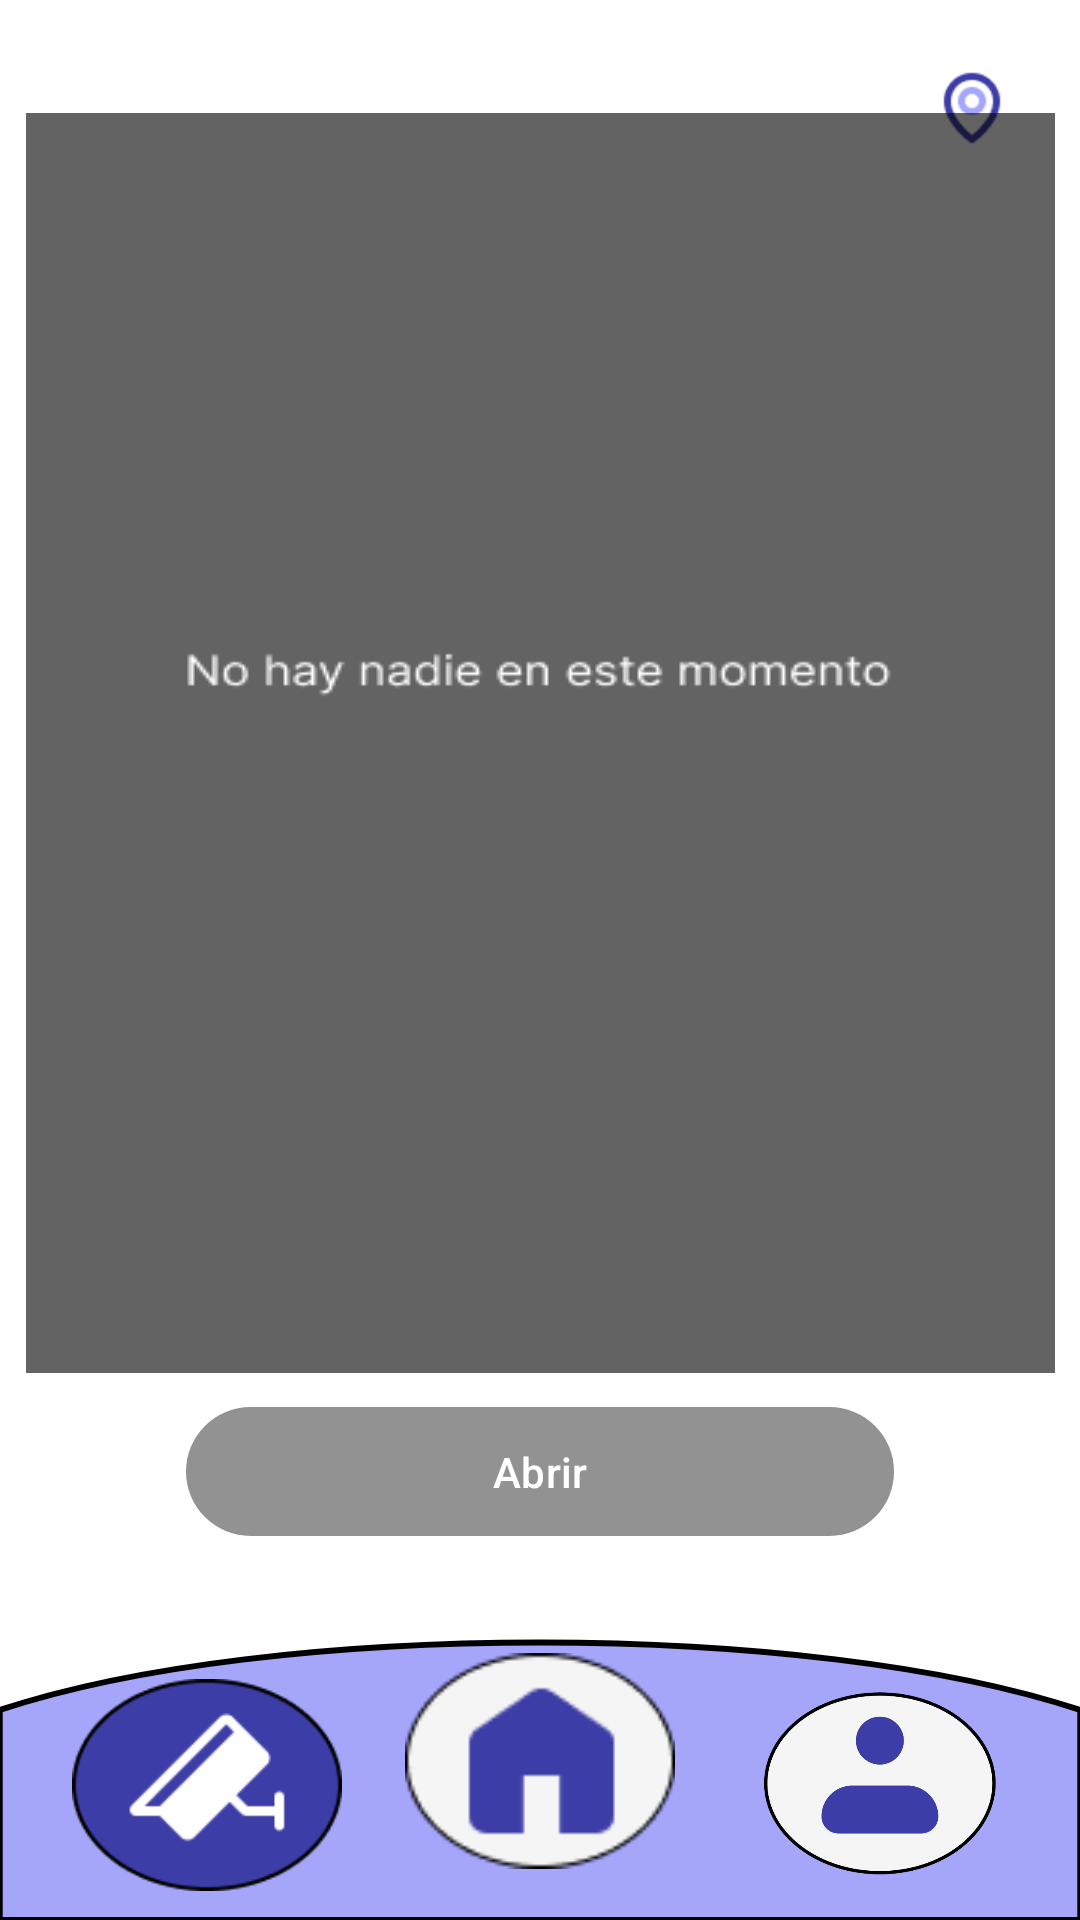

Icons on this 1080x1920 Android screen, each with the point to tap as (x,y):
home: (540,1761)
perfil inicio: (873,1785)
